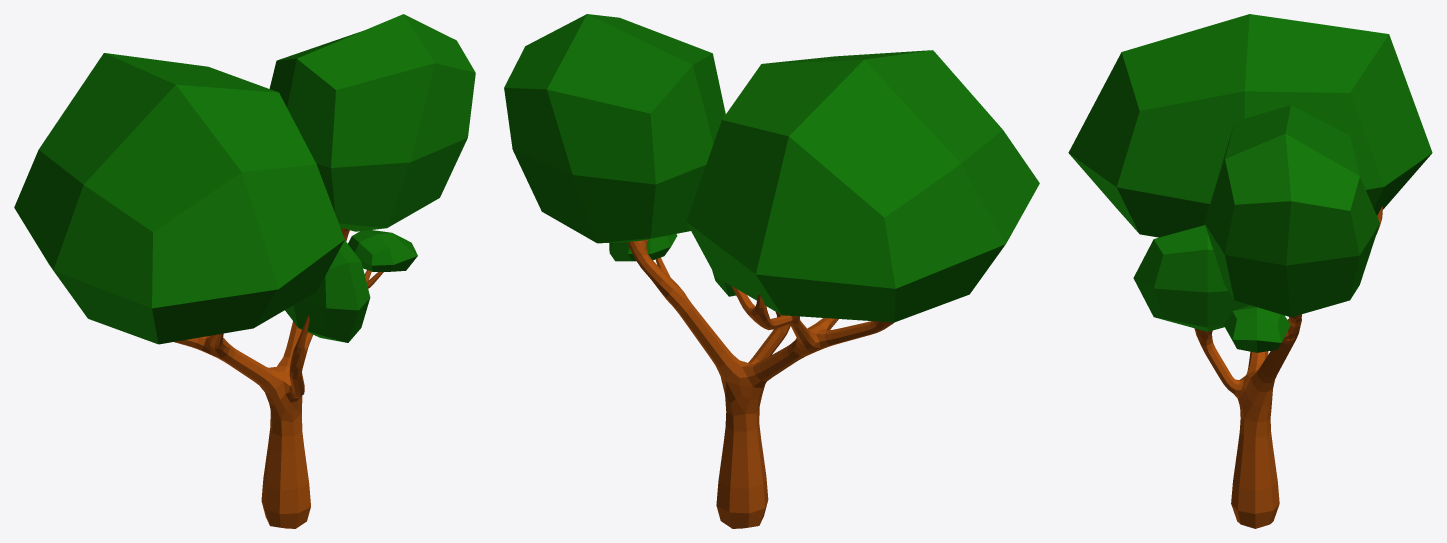
Rendered from arbol (modelo 1) (1).fbx.
3 renders of one model, left to right at view 1: azimuth 30°, elevation 25°; view 2: azimuth 150°, elevation 25°; view 3: azimuth 270°, elevation 25°, orthographic. The views are drawn at different scales.
Parts seen in each view (by area): view 1: Cube, Cube.002, tronco, Cube.001, Cube.003; view 2: Cube, Cube.002, tronco, Cube.003; view 3: Cube, Cube.002, tronco, Cube.001, Cube.003.
Part boxes in pixels (bbox=[...]): Cube: bbox=[14, 53, 344, 344]; Cube.002: bbox=[269, 14, 475, 231]; tronco: bbox=[174, 228, 383, 528]; Cube.001: bbox=[285, 240, 370, 342]; Cube.003: bbox=[348, 230, 417, 271]; Cube: bbox=[686, 50, 1039, 322]; Cube.002: bbox=[504, 14, 725, 243]; tronco: bbox=[627, 239, 893, 528]; Cube.003: bbox=[609, 234, 677, 261]; Cube: bbox=[1068, 14, 1432, 237]; Cube.002: bbox=[1204, 105, 1379, 317]; tronco: bbox=[1194, 206, 1382, 528]; Cube.001: bbox=[1133, 225, 1249, 331]; Cube.003: bbox=[1223, 305, 1290, 352].
Bounding box in the file's own units: 1155 × 1211 × 870.
